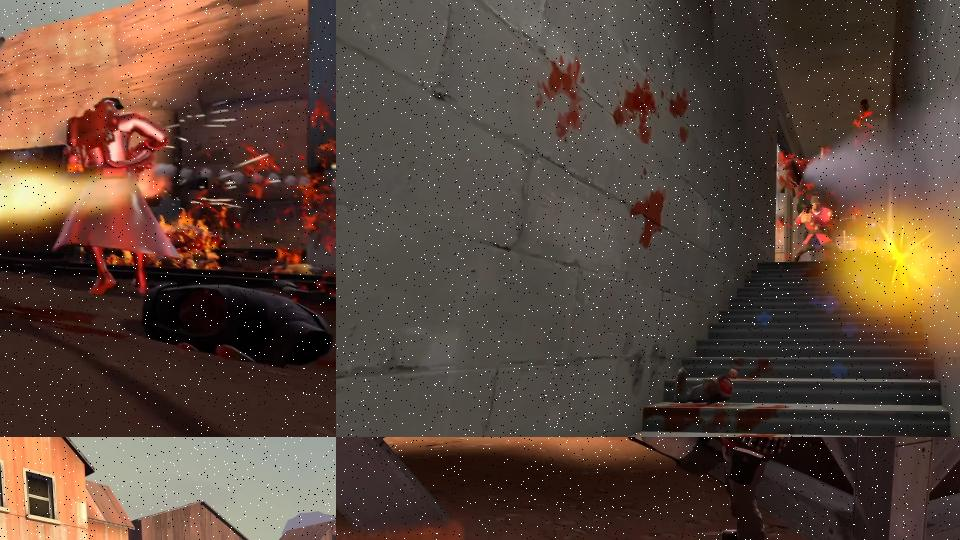Enemy: (590, 437, 830, 540), (50, 97, 170, 295), (791, 195, 846, 264)
